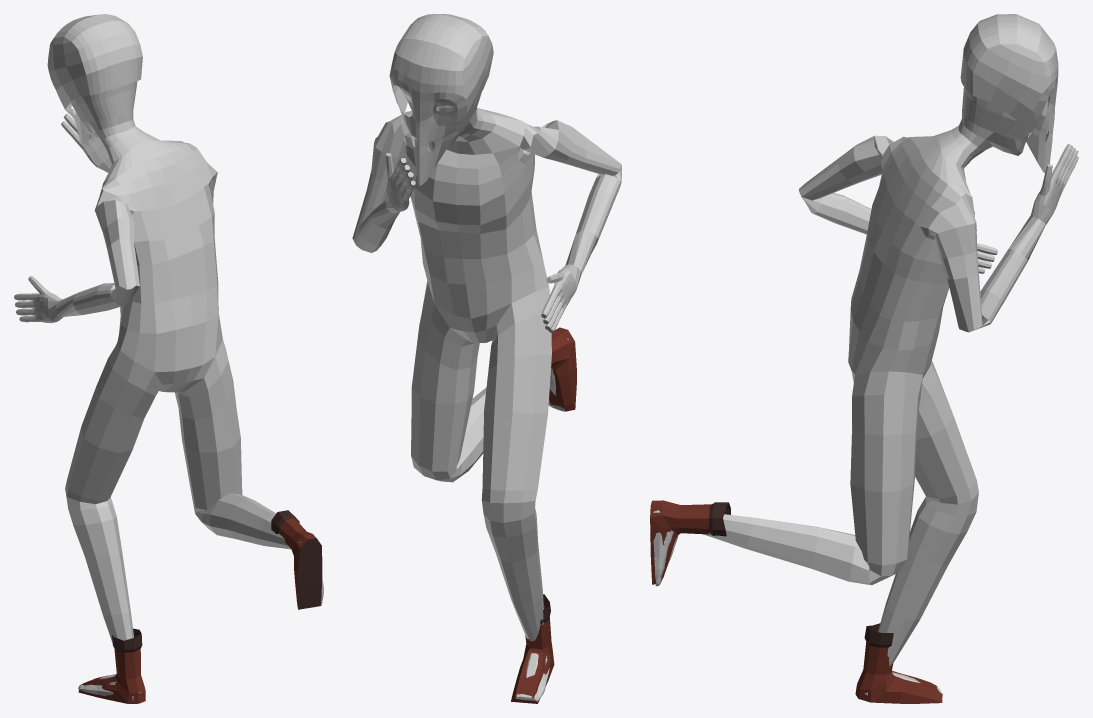
The model's file is correr_000149.obj.
The picture shows the model from 3 angles, left to right: view 1: azimuth 30°, elevation 25°; view 2: azimuth 150°, elevation 25°; view 3: azimuth 270°, elevation 25°; orthographic projection. The views are drawn at different scales.
Parts seen in each view (by area): view 1: Plane.002_Plane.001, Plane.003, Plane.004; view 2: Plane.002_Plane.001, Plane.004, Plane.003; view 3: Plane.002_Plane.001, Plane.004, Plane.003.
Part boxes in pixels (left/top/right/bottom): Plane.002_Plane.001: left=14, top=14, right=323, bottom=700; Plane.003: left=271, top=510, right=322, bottom=609; Plane.004: left=78, top=628, right=145, bottom=703; Plane.002_Plane.001: left=352, top=14, right=621, bottom=700; Plane.004: left=511, top=594, right=554, bottom=703; Plane.003: left=549, top=327, right=576, bottom=411; Plane.002_Plane.001: left=653, top=14, right=1078, bottom=695; Plane.004: left=855, top=623, right=942, bottom=703; Plane.003: left=650, top=500, right=730, bottom=584.
Size of the model in its own units: 2.04 by 6.62 by 3.68.
